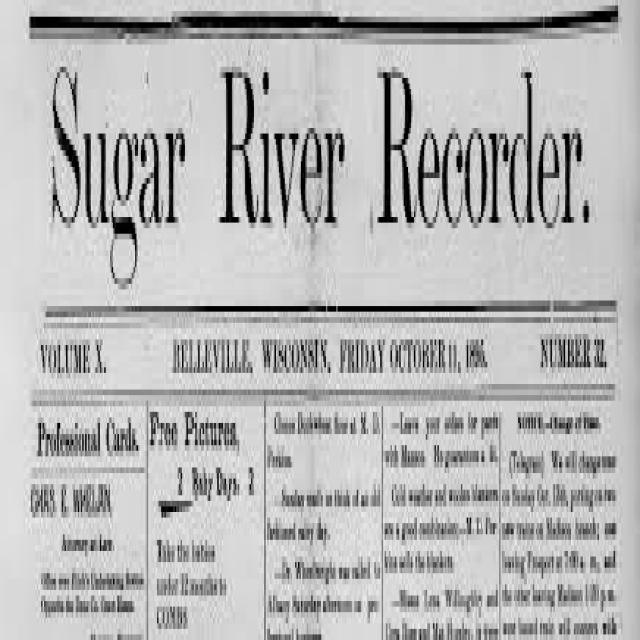paper: (29, 16, 619, 640)
